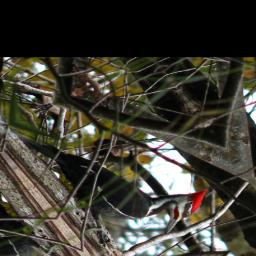Woodpecker: (12, 87, 223, 256)
